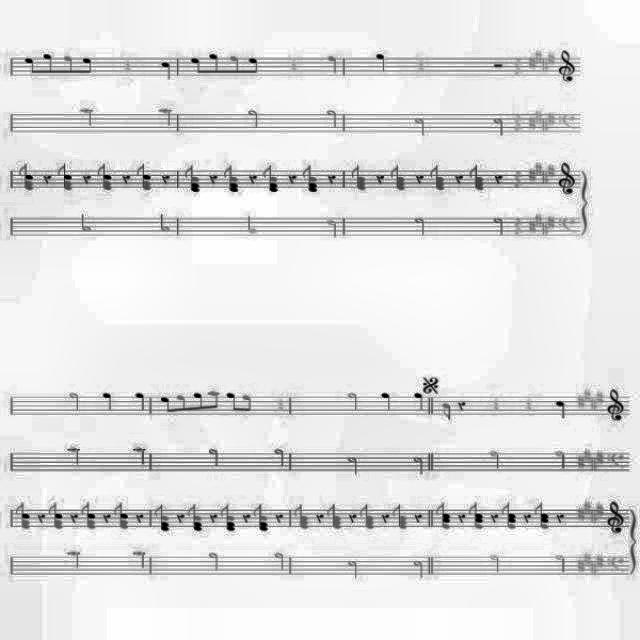Bass-clef: (557, 107, 587, 137), (604, 552, 630, 580), (606, 448, 634, 474), (558, 212, 582, 238)
Eighth-note: (16, 45, 42, 79), (239, 389, 265, 416), (245, 48, 267, 76), (99, 383, 118, 413), (81, 49, 97, 83), (39, 50, 57, 78), (439, 396, 456, 424), (212, 384, 228, 410), (228, 46, 240, 78), (63, 50, 77, 76), (192, 46, 204, 74), (132, 390, 148, 410), (193, 388, 207, 410), (209, 48, 219, 76), (162, 394, 170, 426), (178, 390, 186, 416)
Eighth-rest: (493, 170, 511, 192), (554, 506, 570, 530), (447, 172, 467, 190), (244, 170, 260, 192), (412, 168, 428, 188), (410, 512, 426, 530), (34, 512, 50, 530), (378, 170, 390, 194), (324, 169, 340, 187), (206, 170, 218, 193), (160, 167, 173, 187), (454, 510, 470, 526), (346, 512, 362, 528), (121, 168, 133, 188), (83, 170, 97, 187), (98, 510, 112, 526), (522, 509, 534, 527), (274, 509, 286, 526), (238, 512, 250, 528), (208, 512, 220, 528), (68, 511, 78, 529), (136, 512, 146, 528), (288, 168, 296, 188), (174, 512, 186, 524), (379, 512, 389, 526), (316, 510, 326, 524), (491, 510, 499, 524)
Half-note: (202, 550, 238, 598), (405, 111, 439, 145), (124, 549, 152, 579), (60, 546, 88, 574), (346, 555, 366, 589), (205, 443, 228, 471), (489, 211, 509, 243), (343, 448, 365, 476), (552, 444, 572, 474), (66, 443, 86, 472), (486, 442, 502, 478), (486, 113, 508, 139), (78, 99, 100, 125), (320, 108, 340, 136), (156, 102, 172, 136), (412, 210, 428, 244), (407, 450, 425, 478), (338, 390, 362, 410), (268, 442, 288, 466), (552, 550, 572, 574), (486, 547, 502, 577), (246, 108, 262, 136), (322, 216, 338, 244), (275, 542, 289, 574), (415, 548, 425, 584), (156, 209, 168, 237), (78, 206, 90, 234), (70, 388, 82, 416), (134, 442, 146, 466)
Quarter-note: (368, 46, 397, 80), (378, 385, 400, 413), (323, 47, 341, 75), (554, 394, 570, 422), (154, 59, 174, 81), (413, 391, 423, 413)
Treble-clef: (606, 383, 628, 429), (556, 157, 580, 199), (606, 498, 630, 536), (558, 39, 574, 93)
